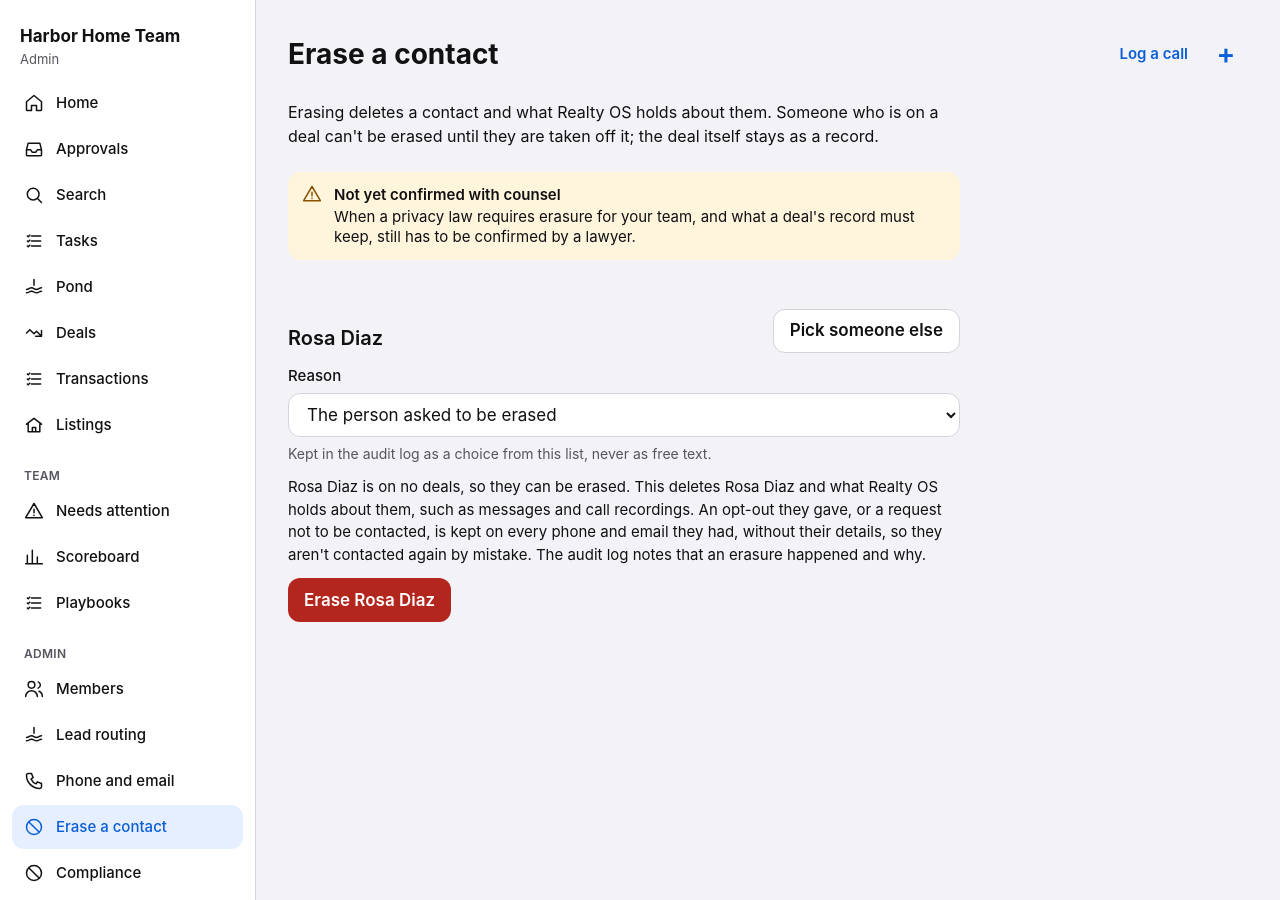
Test case: Erase a contact › E59 R-DATA-4: erasing needs an explicit confirmation naming the person, sends the reason, and says honestly that it is done
Select "Duplicate record" in the dropdown labelled "Reason" at (624,415), box [288, 393, 960, 437]
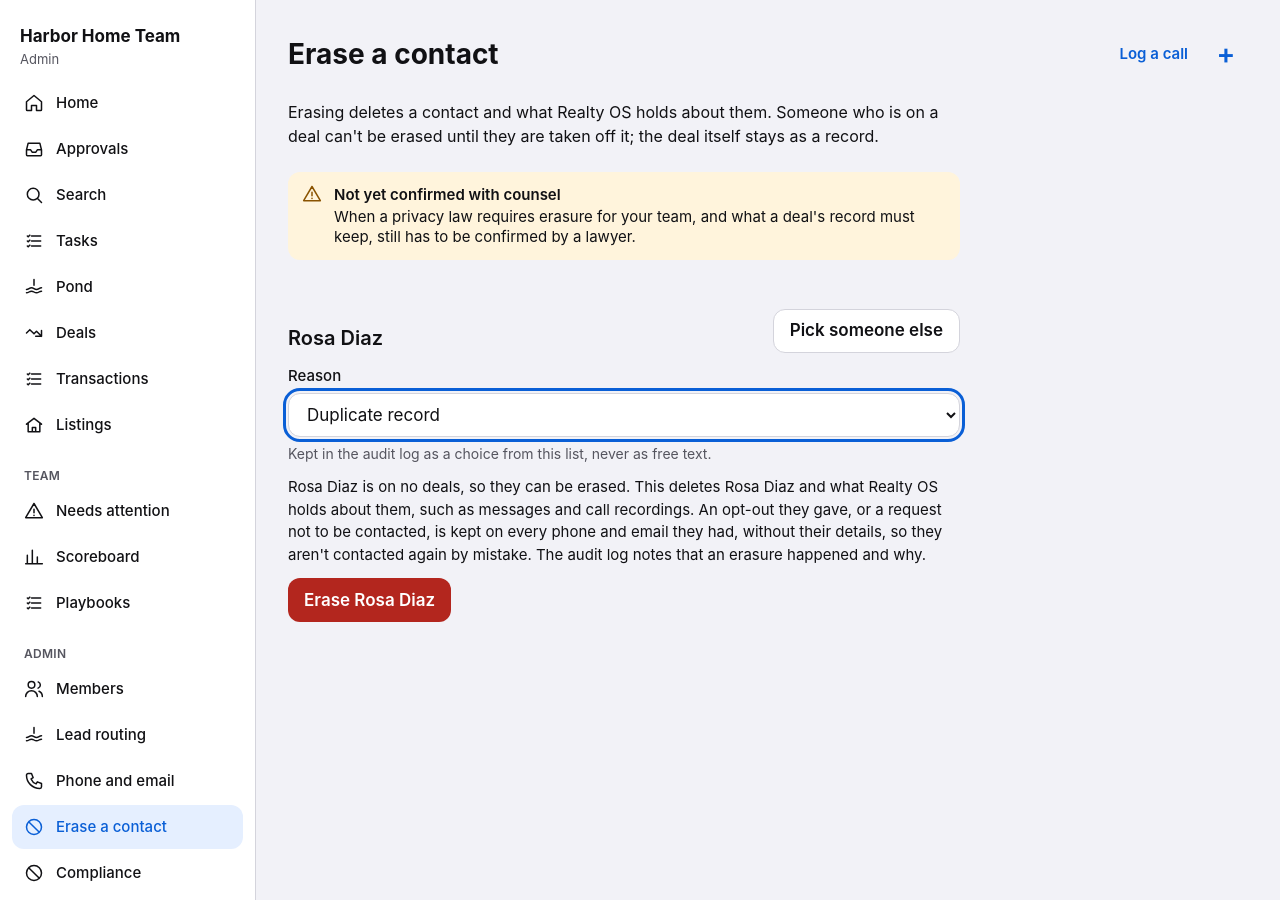
Click the button "Erase Rosa Diaz" at (370,600), box [288, 578, 451, 622]
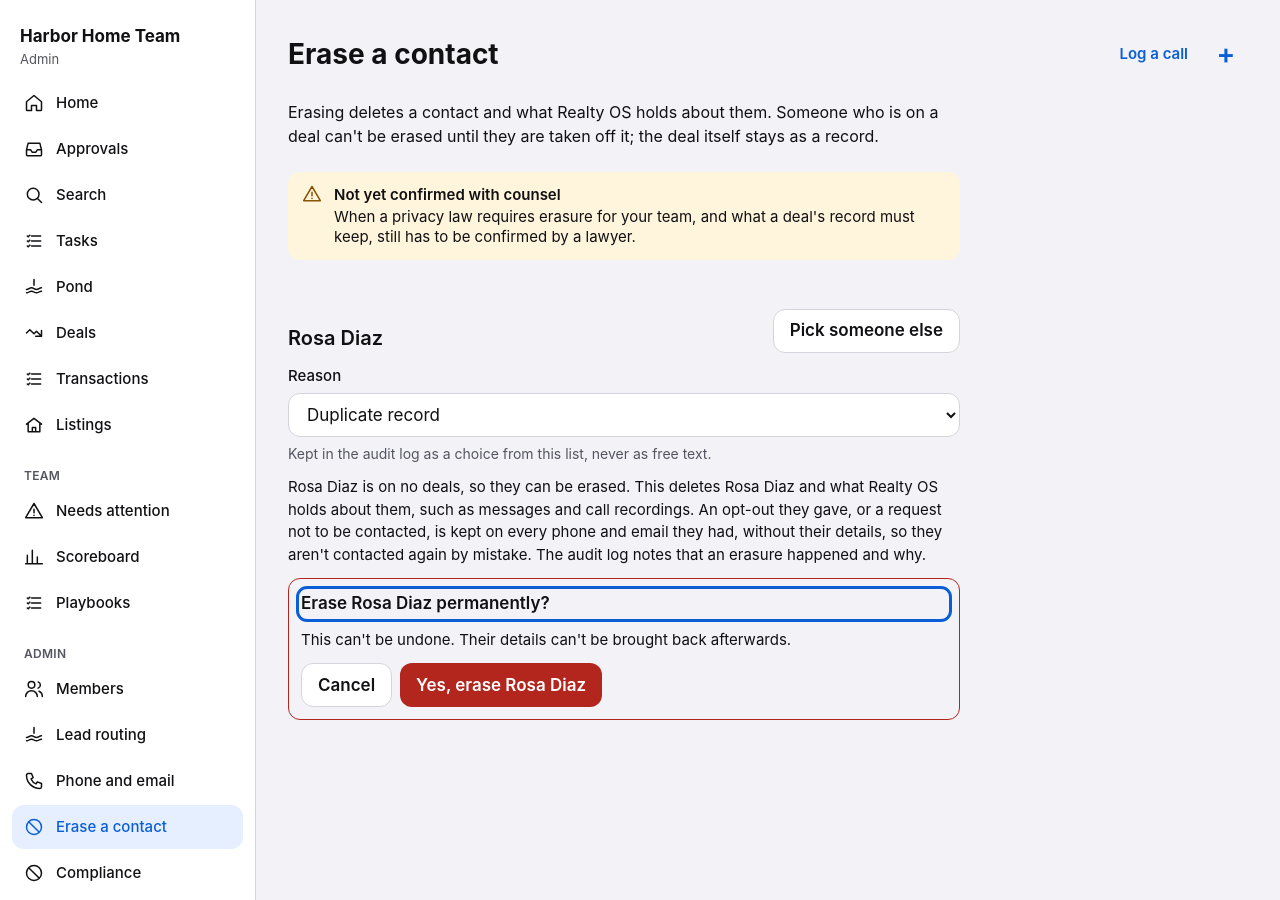
Result: the text "This can't be undone" is shown at [301, 630, 791, 649]
Click the button "Yes, erase Rosa Diaz" at (501,685), box [400, 663, 602, 707]
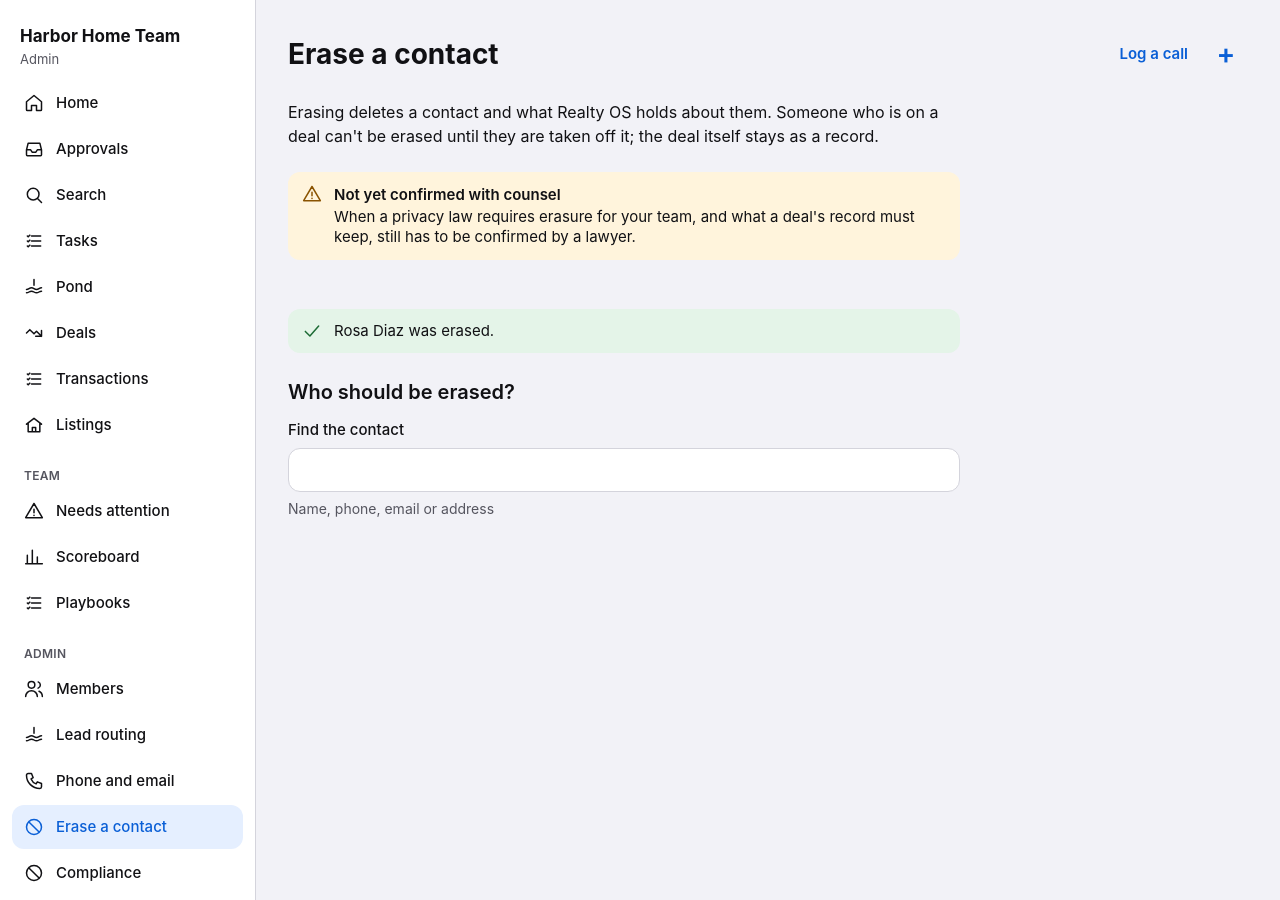
Result: the text "Rosa Diaz was erased." is shown at [334, 321, 494, 340]
